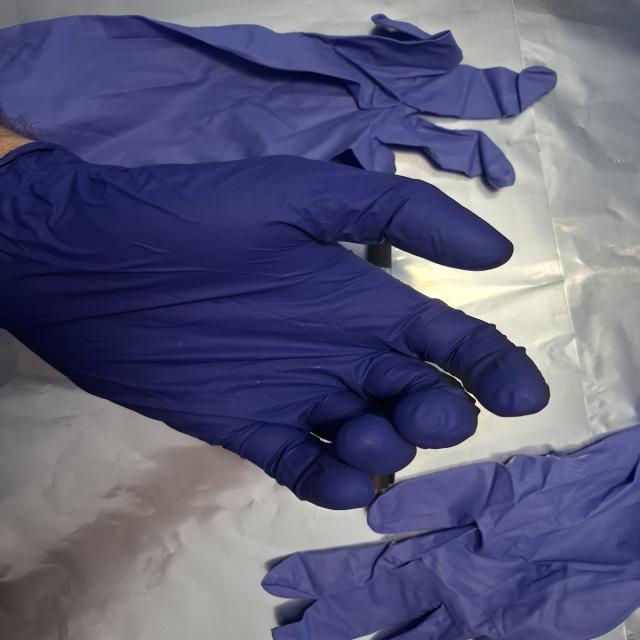glove_on: (1, 137, 554, 513)
